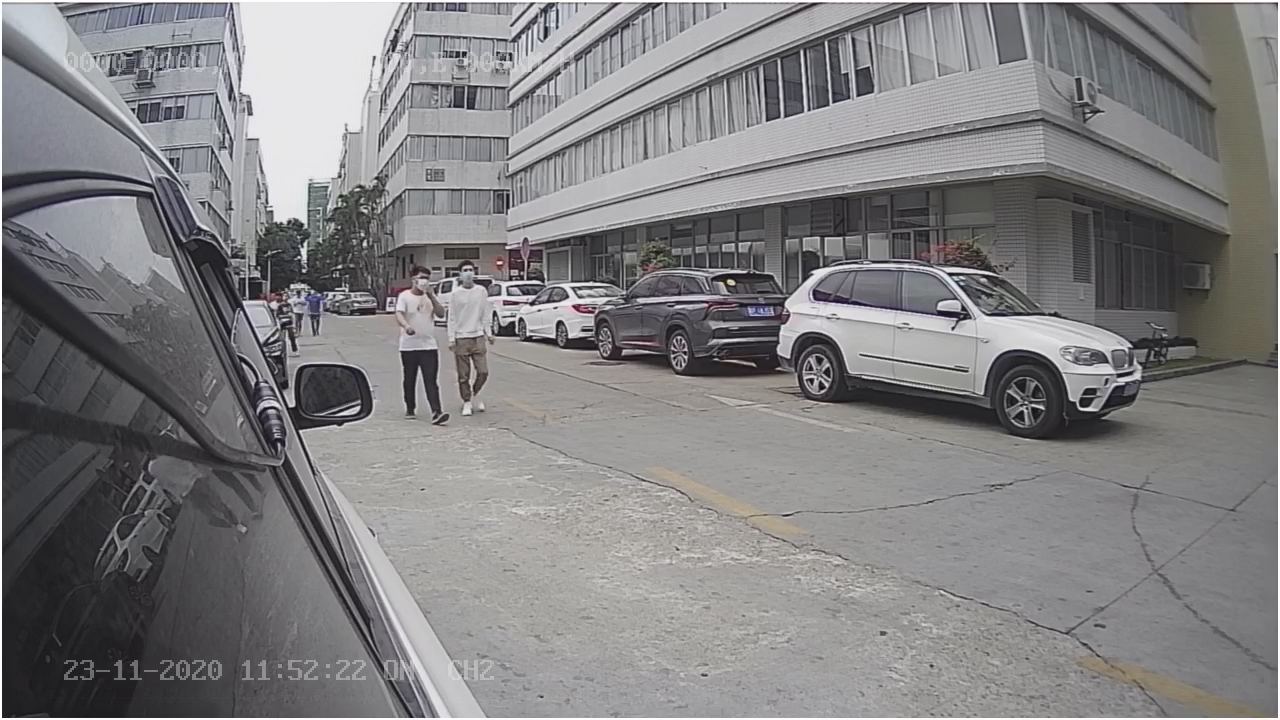person: (391, 258, 444, 431), (447, 257, 494, 420)
